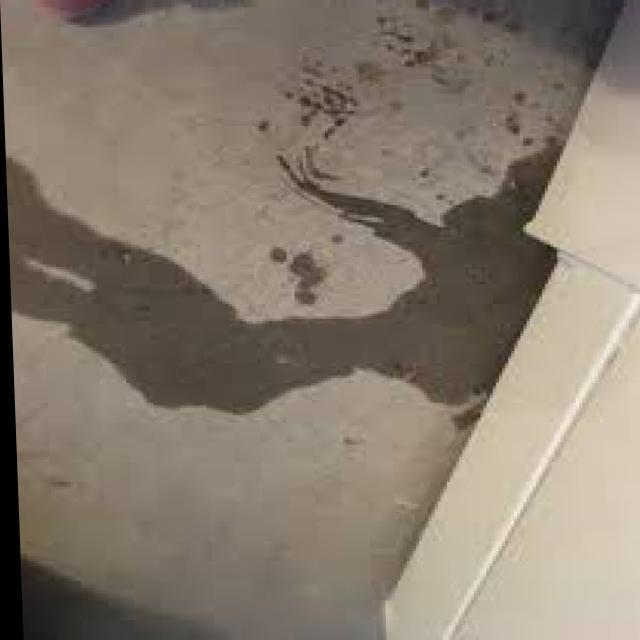water accumulation: (4, 134, 578, 416)
